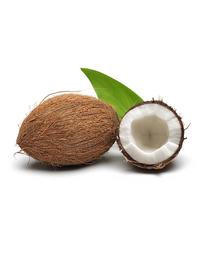coconut: (14, 92, 121, 168), (114, 99, 188, 171)
